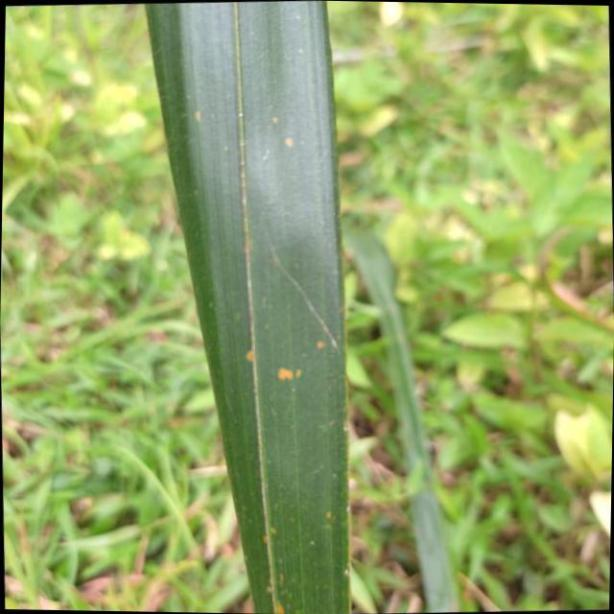Boron: (146, 0, 348, 614)
